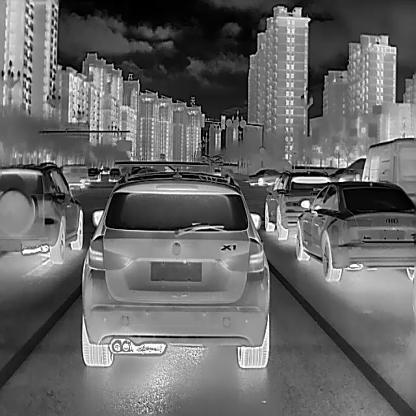car: (76, 165, 271, 372), (291, 178, 416, 284), (0, 159, 84, 264), (263, 166, 329, 240), (353, 134, 415, 207), (55, 162, 87, 189), (245, 166, 281, 187), (329, 164, 360, 183), (86, 165, 101, 182), (106, 166, 120, 182), (210, 166, 221, 176)
